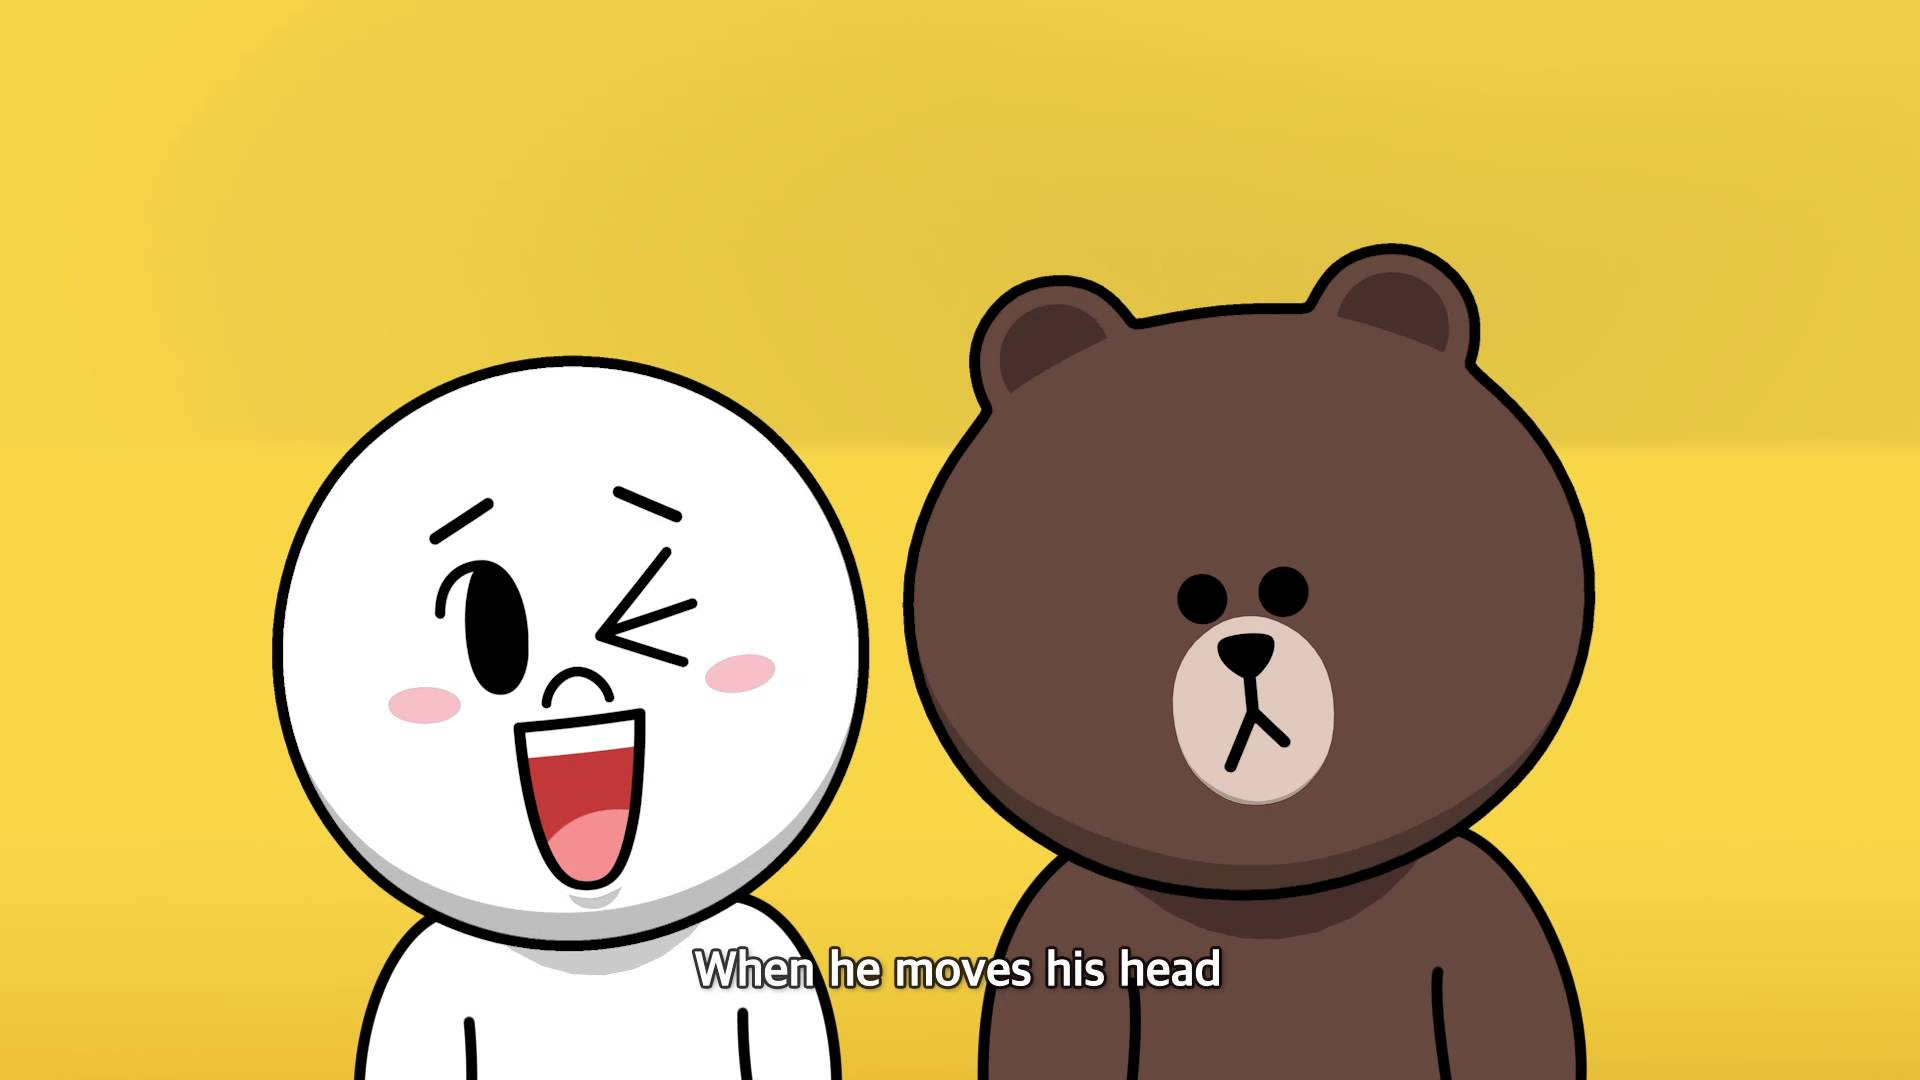line_brown: (884, 229, 1636, 913)
